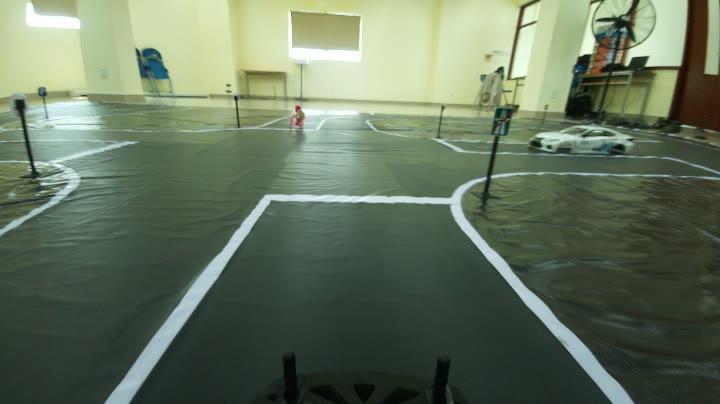highway_exit: (489, 103, 514, 137)
